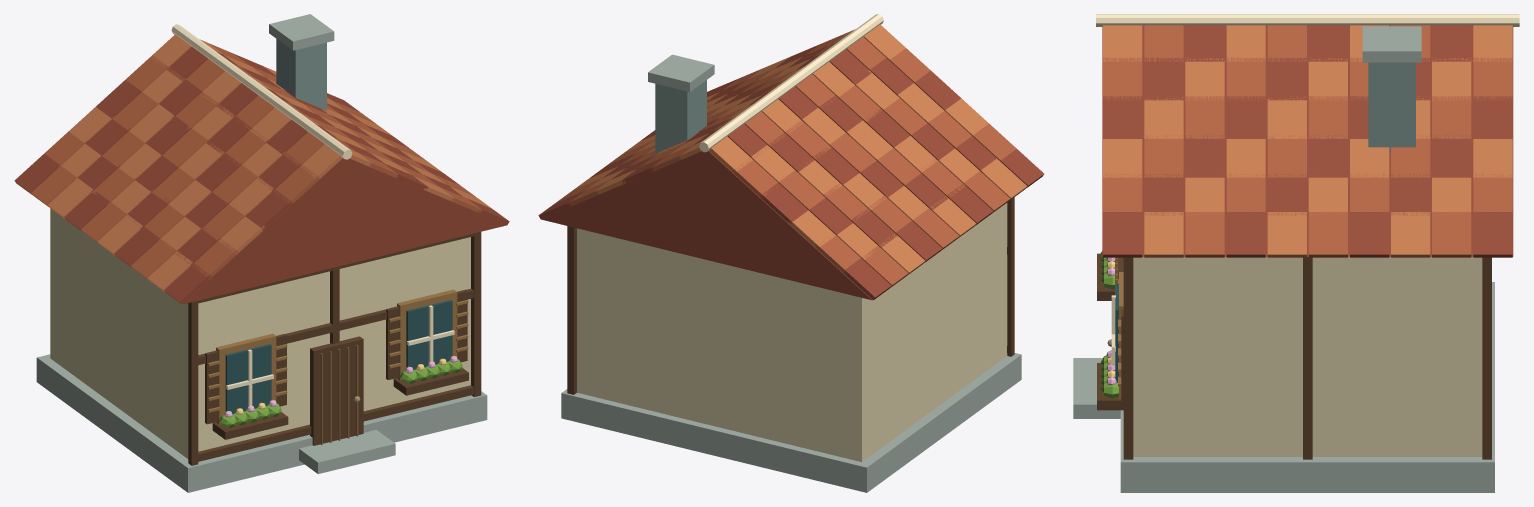
File: port_house.glb
The picture shows the model from 3 angles, left to right: view 1: azimuth 30°, elevation 25°; view 2: azimuth 150°, elevation 25°; view 3: azimuth 270°, elevation 25°; orthographic projection. The views are drawn at different scales.
Parts seen in each view (by area): view 1: port_house; view 2: port_house; view 3: port_house.
Boxes of the visible parts, box(x1,y1,x2,y2) form: port_house: box(14, 14, 509, 492); port_house: box(538, 14, 1044, 492); port_house: box(1073, 14, 1519, 492).
Bounding box in the file's own units: 8.93 × 8.55 × 8.47.
